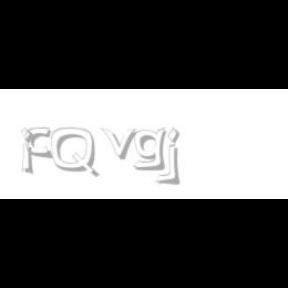Q: (51, 128, 97, 178)
c: (26, 128, 54, 160)
g: (134, 128, 170, 171)
i: (21, 128, 37, 176)
j: (164, 128, 194, 186)
v: (101, 128, 141, 160)
